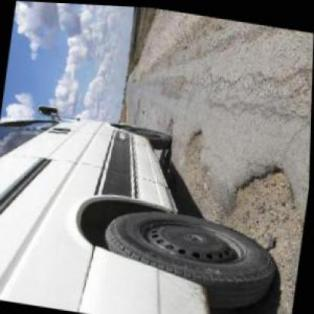Hueco: (214, 152, 308, 262), (179, 124, 206, 179), (163, 114, 176, 135)
